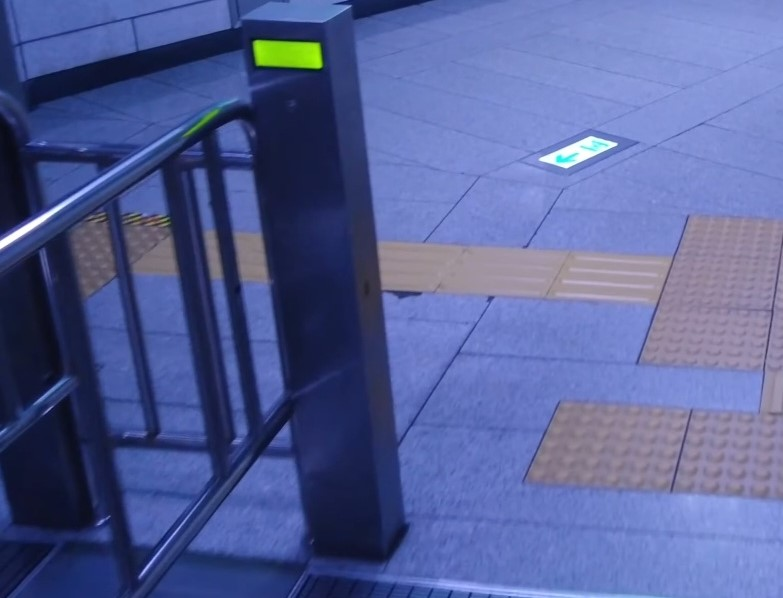guideBlock: (567, 248, 658, 313), (464, 252, 557, 293)
warningBlock: (560, 408, 677, 484), (692, 414, 783, 490), (662, 309, 775, 364), (680, 253, 778, 316), (688, 215, 772, 253)
